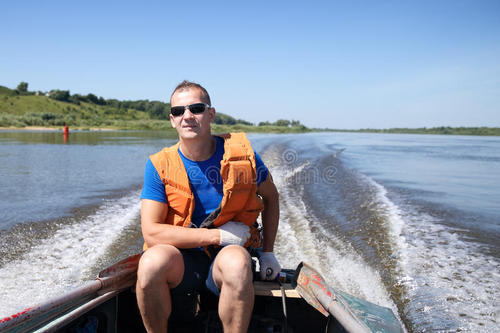reflective_clothes: (148, 127, 270, 263)
